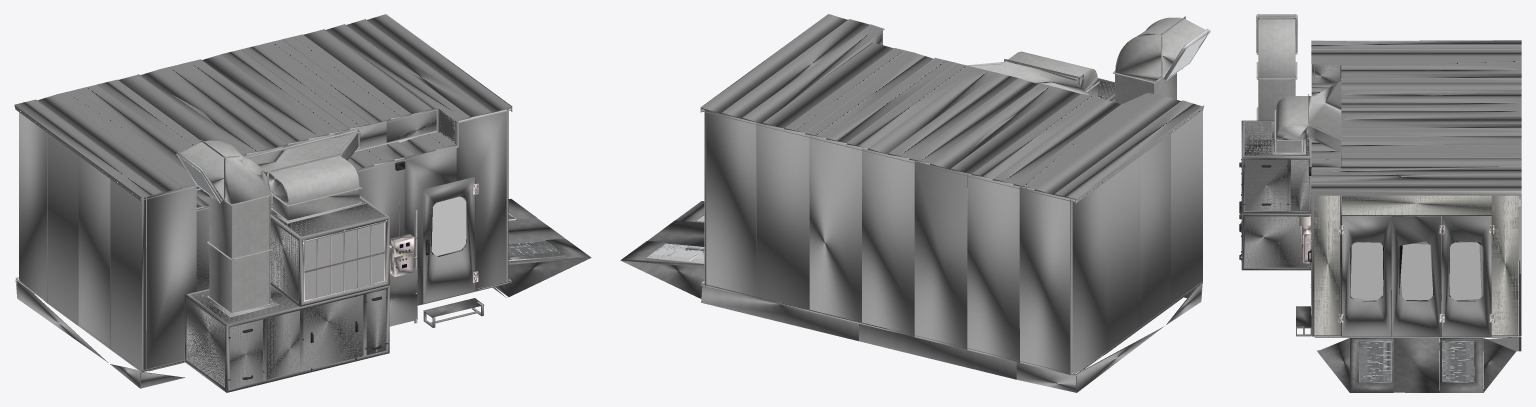
Rendered from booth.glb.
The picture shows the model from 3 angles, left to right: view 1: azimuth 30°, elevation 25°; view 2: azimuth 150°, elevation 25°; view 3: azimuth 270°, elevation 25°; orthographic projection. The views are drawn at different scales.
Visible parts, largest first — view 1: body_01_mesh_00, door_01_mesh_00, doorGlass_01_mesh_00; view 2: body_01_mesh_00, door_01_mesh_00; view 3: body_01_mesh_00, door_01_mesh_00, doorGlass_01_mesh_00.
Part boxes in pixels (<box>): body_01_mesh_00: <box>14,14,591,388</box>; door_01_mesh_00: <box>142,61,565,392</box>; doorGlass_01_mesh_00: <box>431,196,466,255</box>; body_01_mesh_00: <box>620,14,1207,392</box>; door_01_mesh_00: <box>646,17,1210,263</box>; body_01_mesh_00: <box>1244,14,1521,392</box>; door_01_mesh_00: <box>1239,14,1493,382</box>; doorGlass_01_mesh_00: <box>1350,242,1481,300</box>.
Size of the model in its own units: 9.11 by 4.5 by 5.66.
Materials: 18 (14 with a texture image).
